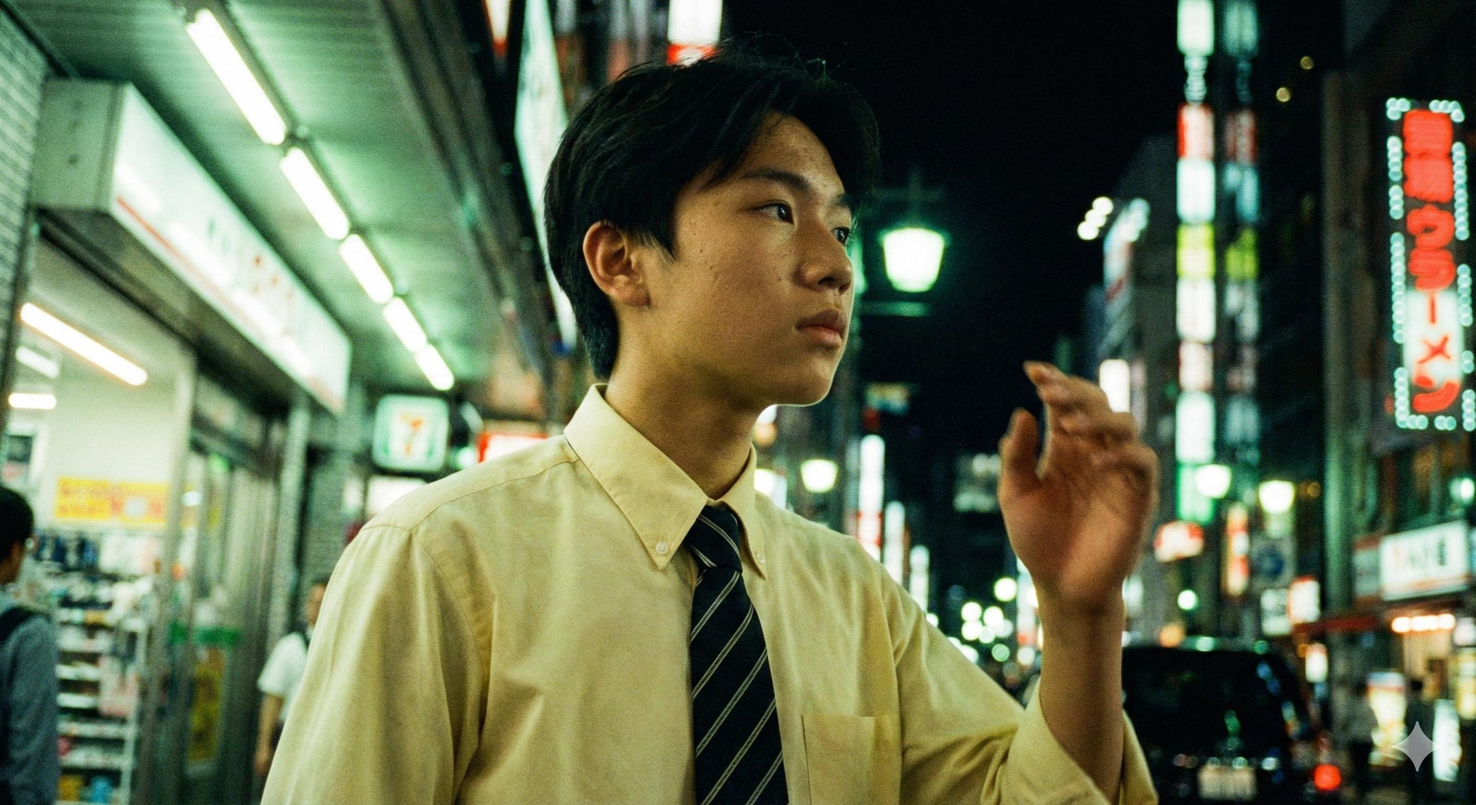person: (267, 47, 1361, 802), (0, 487, 60, 798), (253, 574, 325, 801), (1401, 675, 1444, 802), (1344, 677, 1377, 802)
